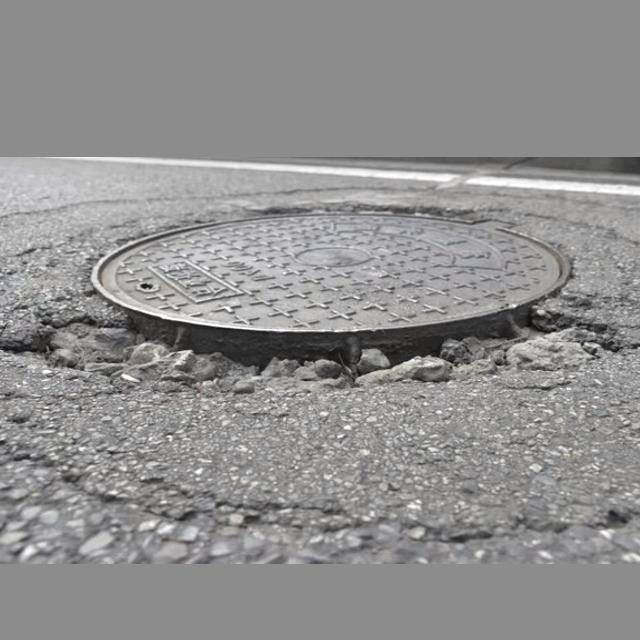circle: (0, 188, 640, 435)
